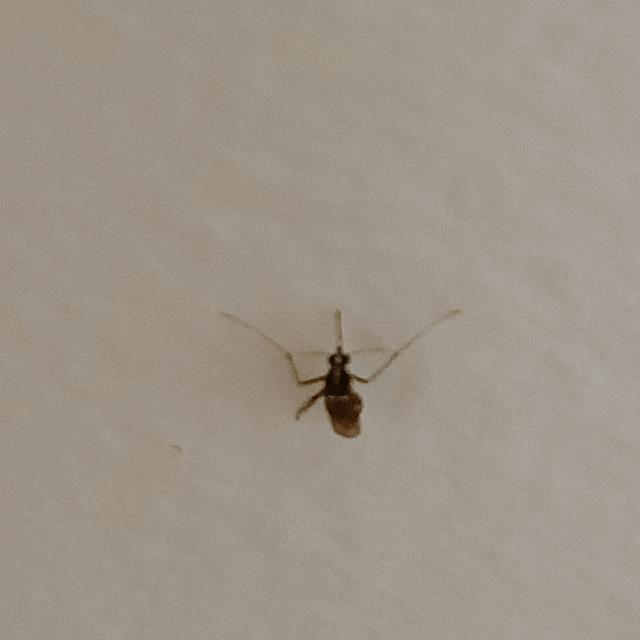albopictus: (209, 303, 459, 432)
